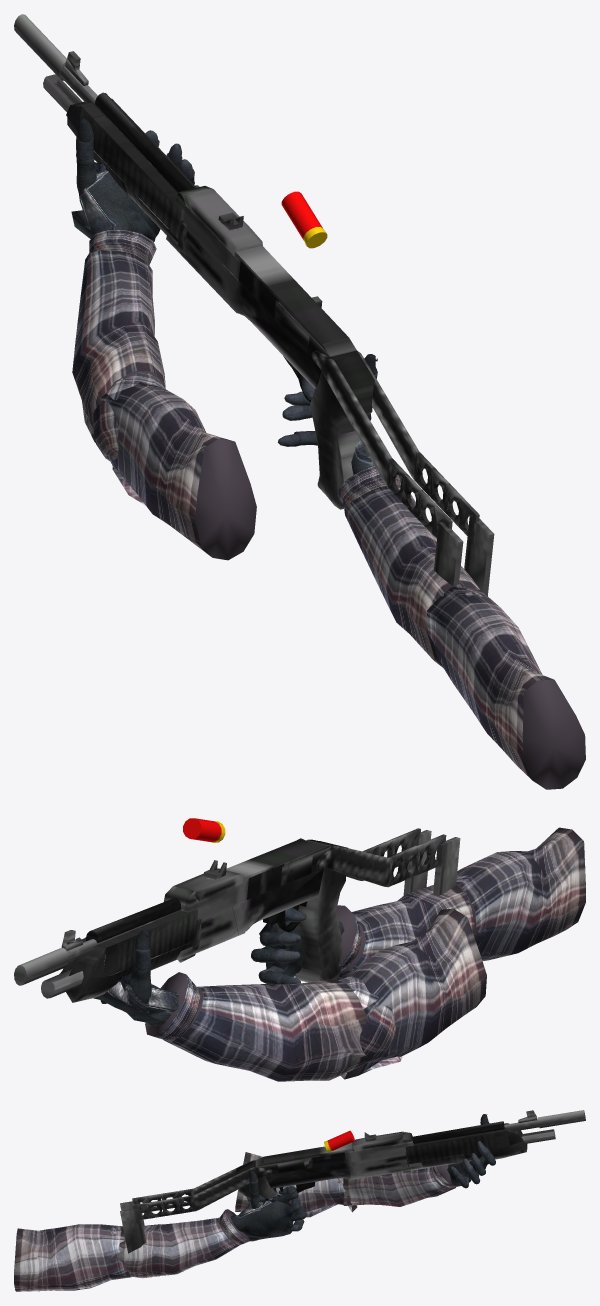
The model's file is SPAS_fire.fbx.
3 renders of one model, top to bottom at view 1: azimuth 30°, elevation 25°; view 2: azimuth 150°, elevation 25°; view 3: azimuth 270°, elevation 25°, orthographic. The views are drawn at different scales.
Visible parts, largest first — view 1: larm, rupperarm, SPASBody, SPASStock, rforearm, SPASPump, lhand, SPASGrip, SPASSight, SPASBarrels, 12GaugeShell; view 2: larm, rupperarm, SPASBody, SPASStock, rforearm, SPASPump, SPASGrip, lhand, SPASBarrels, SPASSight, 12GaugeShell, rhand (+3 smaller); view 3: rupperarm, rforearm, SPASBody, larm, SPASStock, SPASPump, rhand, lhand, SPASBarrels, SPASSight, SPASGrip, 12GaugeShell (+1 smaller).
Part boxes in pixels (x1=…): larm: x1=72, y1=229, x2=256, y2=560; rupperarm: x1=427, y1=587, x2=585, y2=789; SPASBody: x1=166, y1=186, x2=356, y2=388; SPASStock: x1=311, y1=350, x2=494, y2=595; rforearm: x1=338, y1=465, x2=479, y2=667; SPASPump: x1=66, y1=98, x2=196, y2=255; lhand: x1=71, y1=118, x2=199, y2=241; SPASGrip: x1=310, y1=351, x2=374, y2=509; SPASSight: x1=65, y1=51, x2=243, y2=230; SPASBarrels: x1=14, y1=14, x2=177, y2=192; 12GaugeShell: x1=281, y1=191, x2=327, y2=248; larm: x1=145, y1=908, x2=486, y2=1081; rupperarm: x1=456, y1=827, x2=585, y2=960; SPASBody: x1=159, y1=839, x2=331, y2=960; SPASStock: x1=308, y1=828, x2=460, y2=896; rforearm: x1=335, y1=883, x2=479, y2=979; SPASPump: x1=63, y1=909, x2=201, y2=1002; SPASGrip: x1=291, y1=839, x2=348, y2=982; lhand: x1=59, y1=930, x2=178, y2=1025; SPASBarrels: x1=14, y1=910, x2=180, y2=998; SPASSight: x1=61, y1=860, x2=226, y2=950; 12GaugeShell: x1=183, y1=818, x2=225, y2=842; rhand: x1=259, y1=921, x2=344, y2=976; rupperarm: x1=14, y1=1224, x2=131, y2=1291; rforearm: x1=118, y1=1209, x2=251, y2=1278; SPASBody: x1=255, y1=1131, x2=423, y2=1188; larm: x1=235, y1=1152, x2=461, y2=1217; SPASStock: x1=120, y1=1160, x2=272, y2=1253; SPASPump: x1=403, y1=1123, x2=527, y2=1173; rhand: x1=230, y1=1197, x2=293, y2=1238; lhand: x1=444, y1=1114, x2=495, y2=1188; SPASBarrels: x1=504, y1=1110, x2=585, y2=1143; SPASSight: x1=364, y1=1110, x2=537, y2=1143; SPASGrip: x1=236, y1=1160, x2=277, y2=1241; 12GaugeShell: x1=324, y1=1130, x2=354, y2=1152.
Size of the model in its own units: 11.13 by 16.83 by 47.01.
3 materials, 3 textured.
